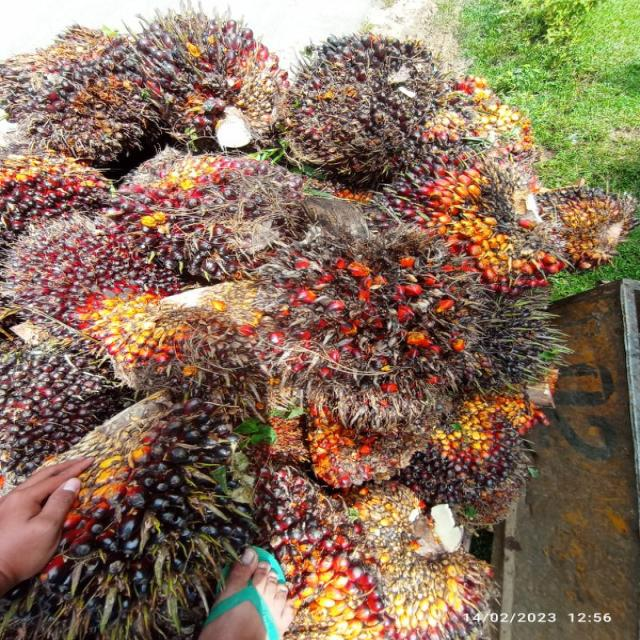fraksi 00: (282, 22, 440, 184), (448, 276, 574, 402), (398, 394, 537, 508), (528, 162, 640, 274)
fraksi 1: (358, 125, 568, 304), (115, 0, 307, 158), (121, 142, 314, 298), (2, 4, 194, 158), (7, 214, 169, 332), (0, 346, 124, 462)
fraksi 4: (228, 204, 490, 430)
